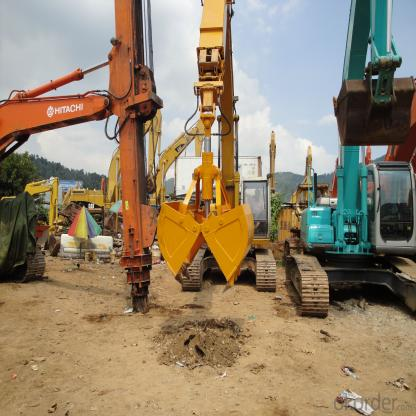excavator: (276, 6, 416, 331), (147, 3, 282, 318)
